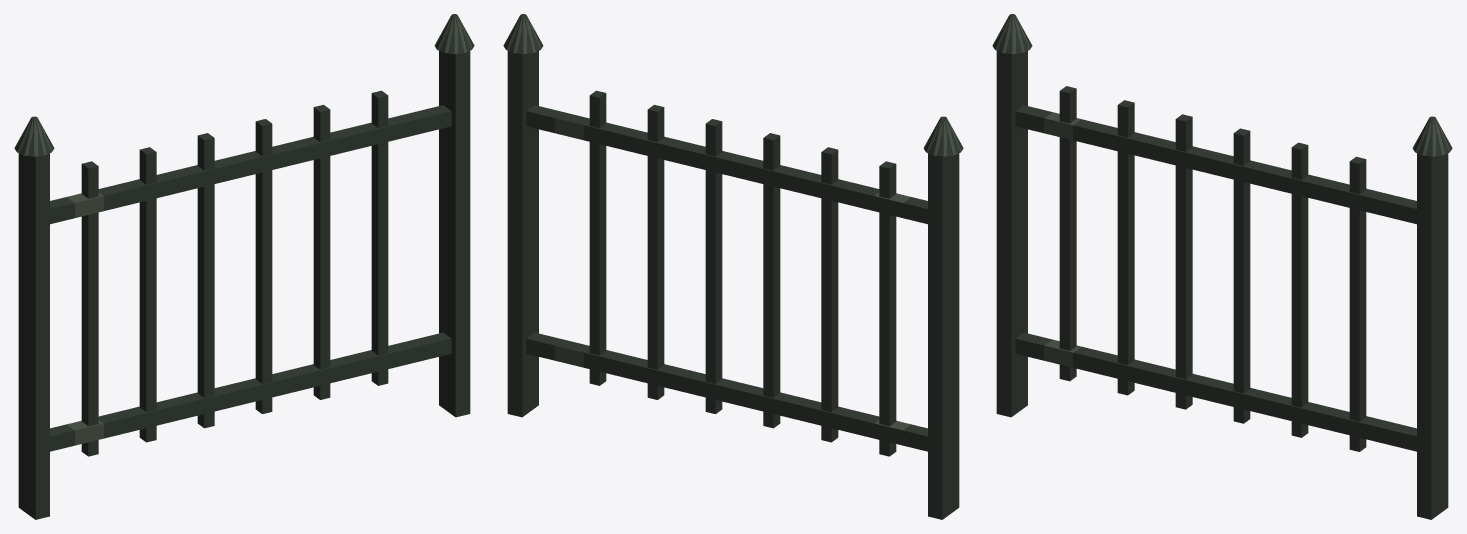
Rendered from iron_fence.gltf.
3 renders of one model, left to right at view 1: azimuth 30°, elevation 25°; view 2: azimuth 150°, elevation 25°; view 3: azimuth 330°, elevation 25°, orthographic.
Visible parts, largest first — view 1: picket (×6), post (×2), rail (×2), post_cap (×2); view 2: picket (×6), post (×2), rail (×2), post_cap (×2); view 3: picket (×6), post (×2), rail (×2), post_cap (×2).
Boxes of the visible parts, box(x1,y1,x2,y2) form: picket (×6): box(81, 90, 388, 456); post (×2): box(18, 51, 470, 519); rail (×2): box(50, 105, 451, 451); post_cap (×2): box(14, 14, 474, 156); picket (×6): box(589, 90, 896, 456); post (×2): box(507, 51, 959, 519); rail (×2): box(526, 105, 927, 451); post_cap (×2): box(503, 14, 963, 156); picket (×6): box(1059, 86, 1366, 451); post (×2): box(996, 51, 1448, 519); rail (×2): box(1015, 105, 1416, 451); post_cap (×2): box(992, 14, 1452, 156).
Bounding box in the file's own units: 1.96 × 1.62 × 0.15.
Materials: 1 (1 with a texture image).
